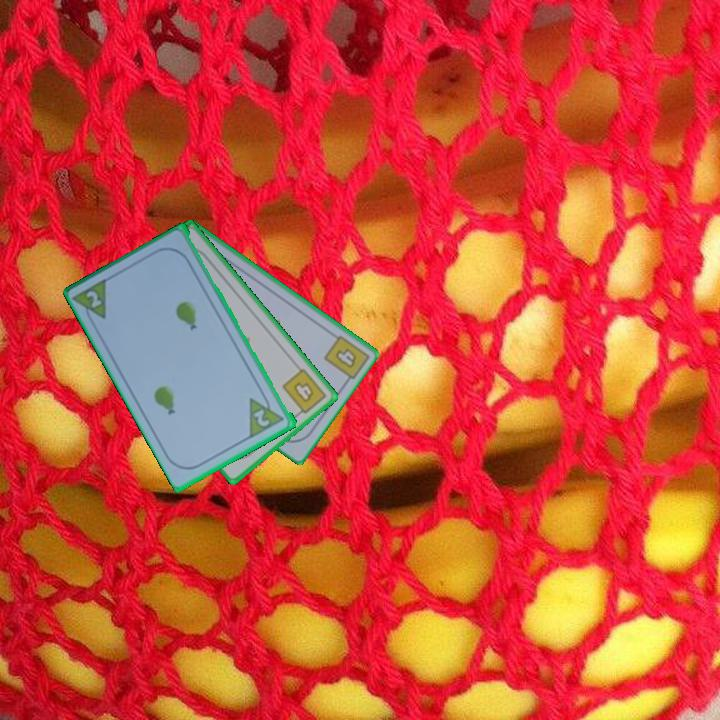2p: (250, 406, 273, 430), (83, 287, 105, 311)
4b: (279, 365, 330, 420), (332, 344, 360, 371)
